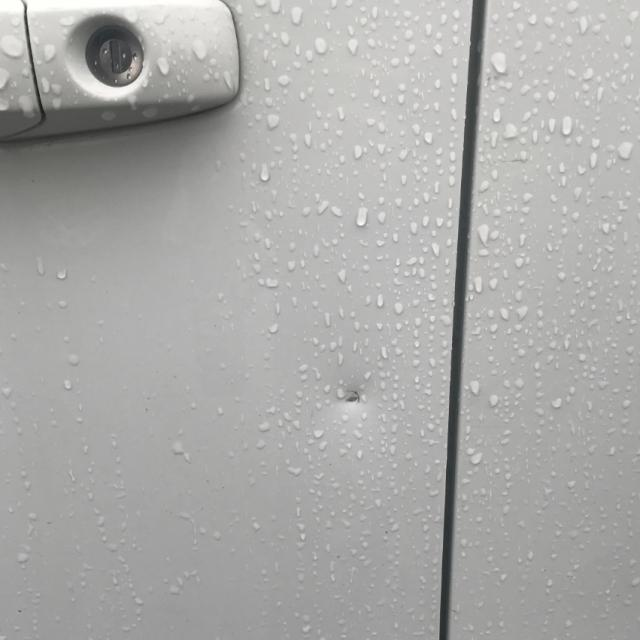dents: (262, 316, 472, 500)
